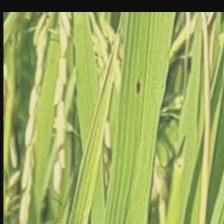Bacterial_Leaf_Blight: (130, 74, 147, 98)
